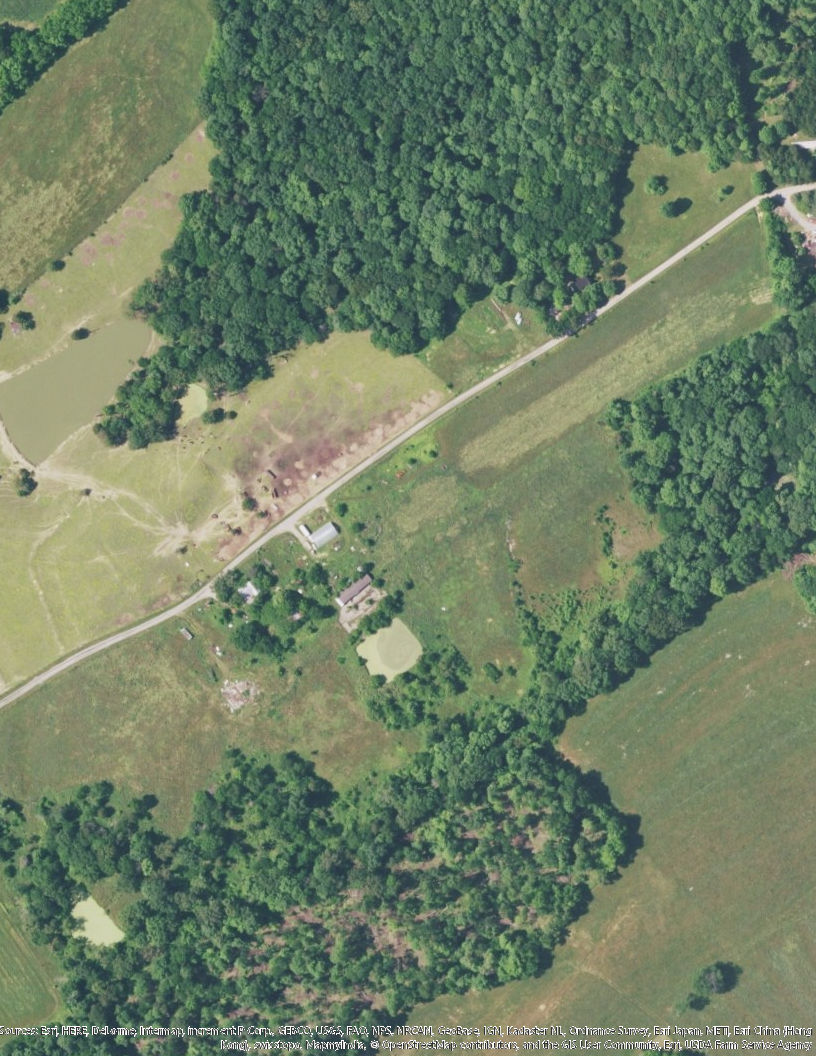cafo: (300, 514, 346, 552)
